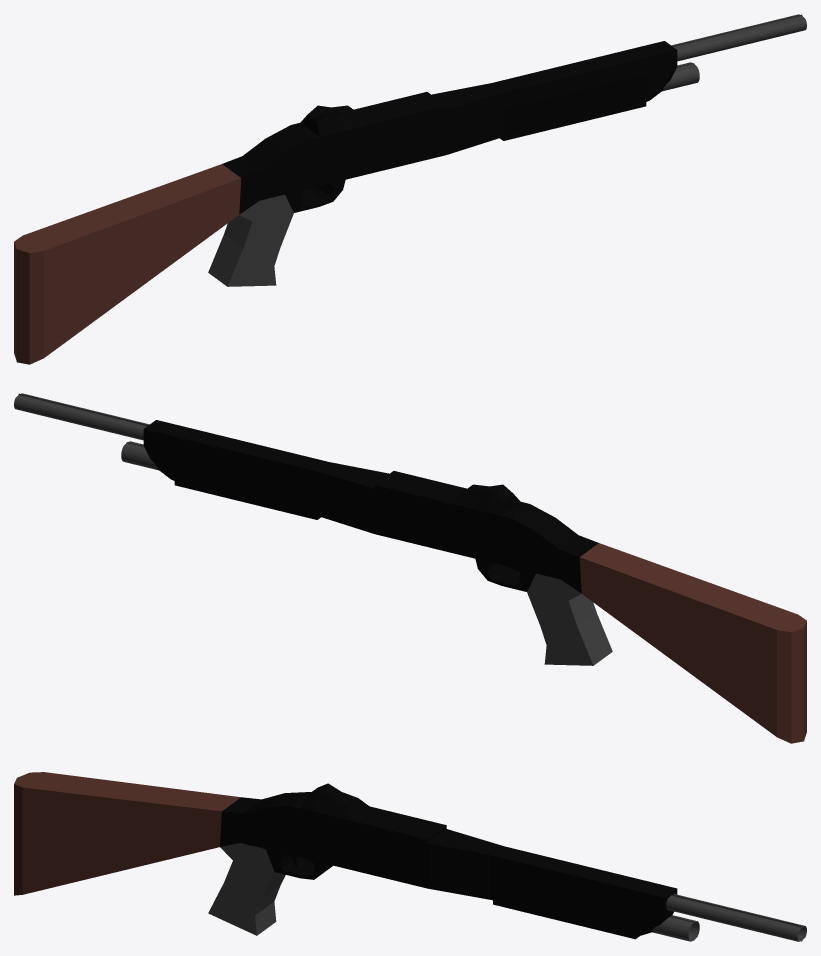
The model's file is Shotgun.fbx.
3 renders of one model, top to bottom at view 1: azimuth 30°, elevation 25°; view 2: azimuth 150°, elevation 25°; view 3: azimuth 330°, elevation 25°, orthographic.
Parts seen in each view (by area): view 1: Cube; view 2: Cube; view 3: Cube.
Part boxes in pixels (left/top/right/bottom): Cube: left=14, top=14, right=806, bottom=364; Cube: left=14, top=393, right=806, bottom=743; Cube: left=14, top=772, right=806, bottom=941.
Size of the model in its own units: 2618 by 569 by 122.
